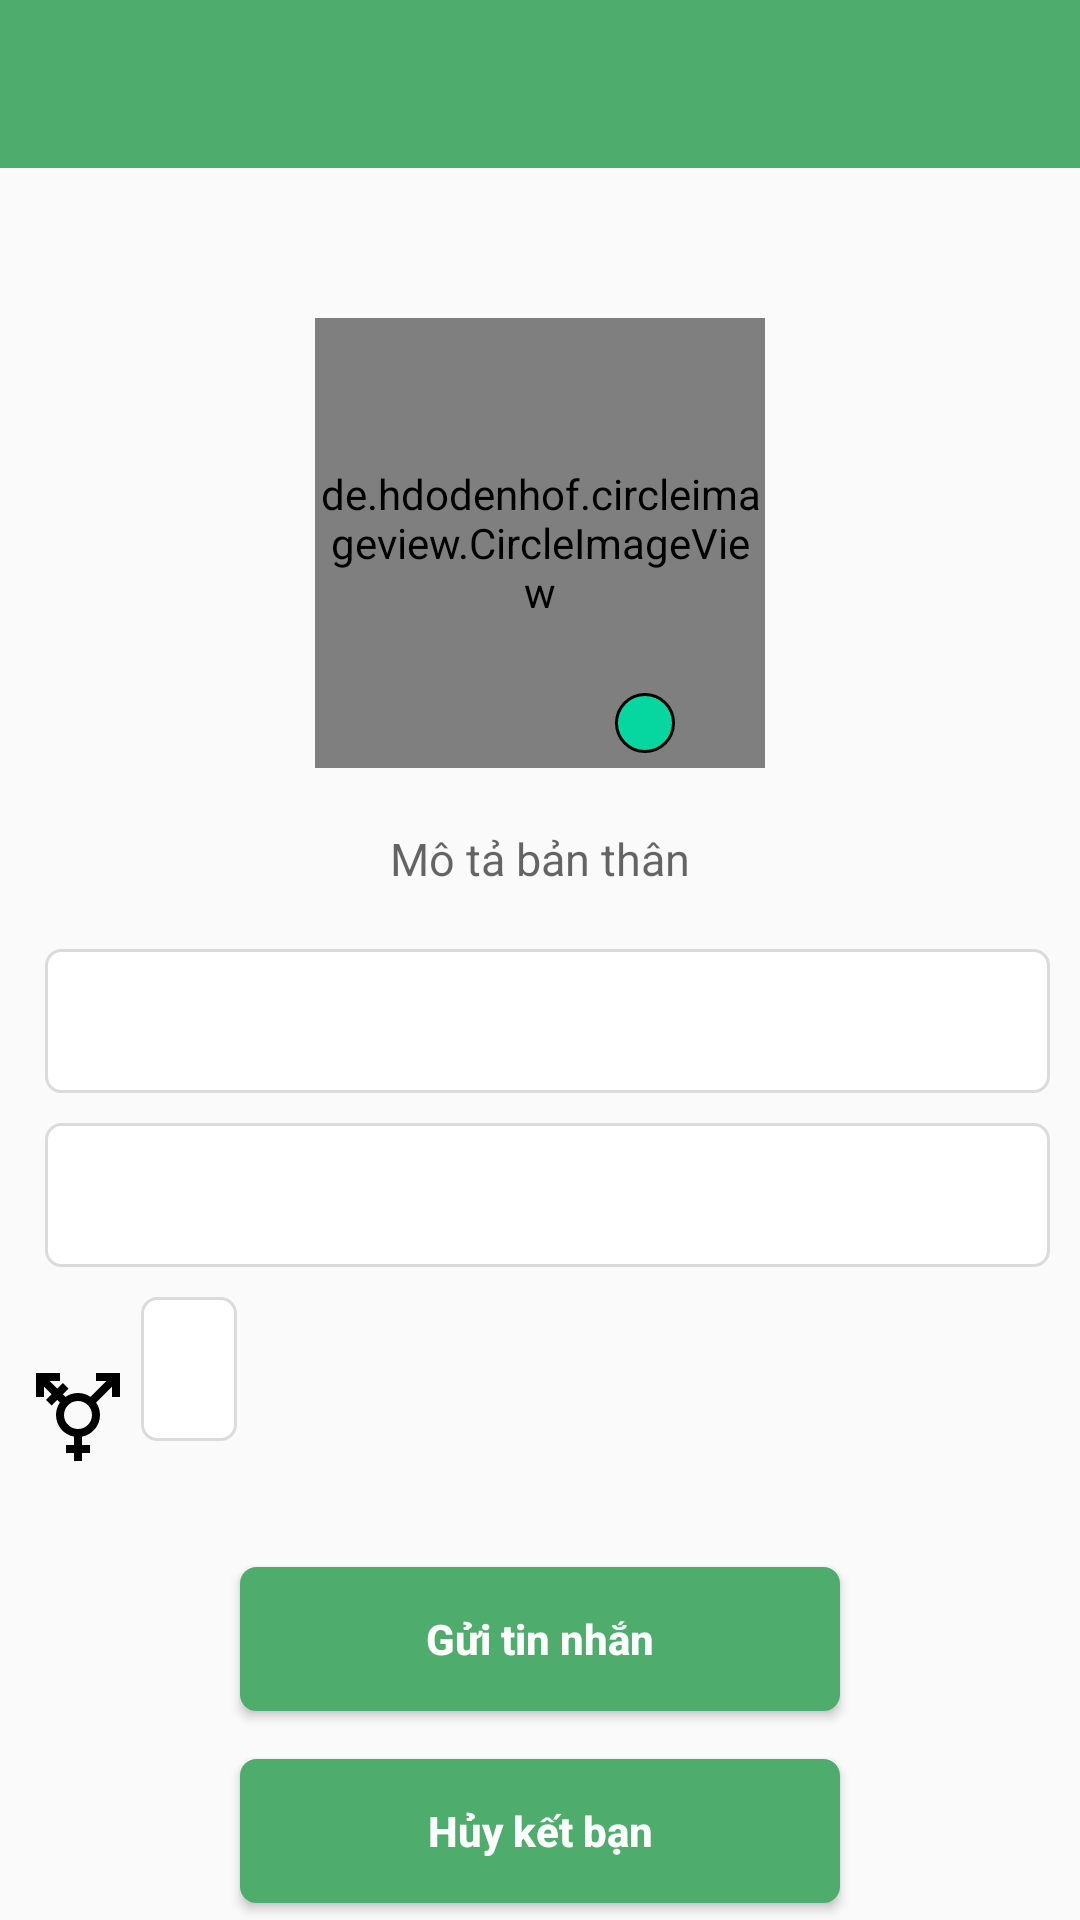

Named icons in this screenshot (1080×1920) and their centers, point (x, y):
gender: point (78, 1417)
online: point (645, 723)
